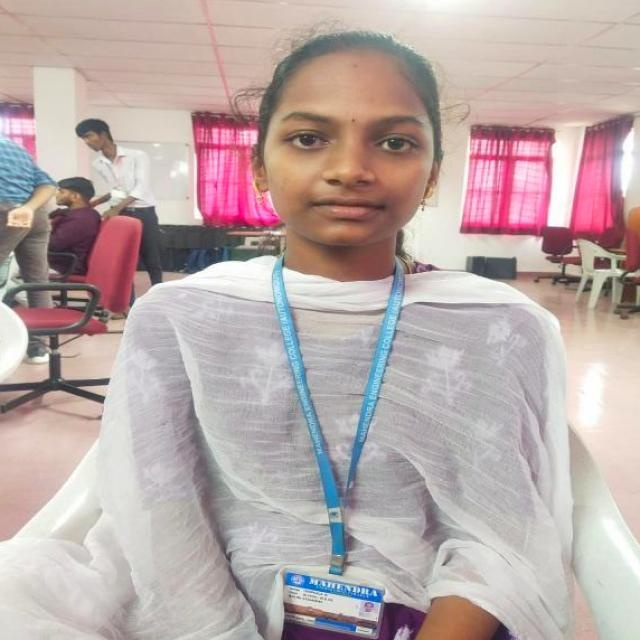ID_card: (271, 255, 405, 640)
